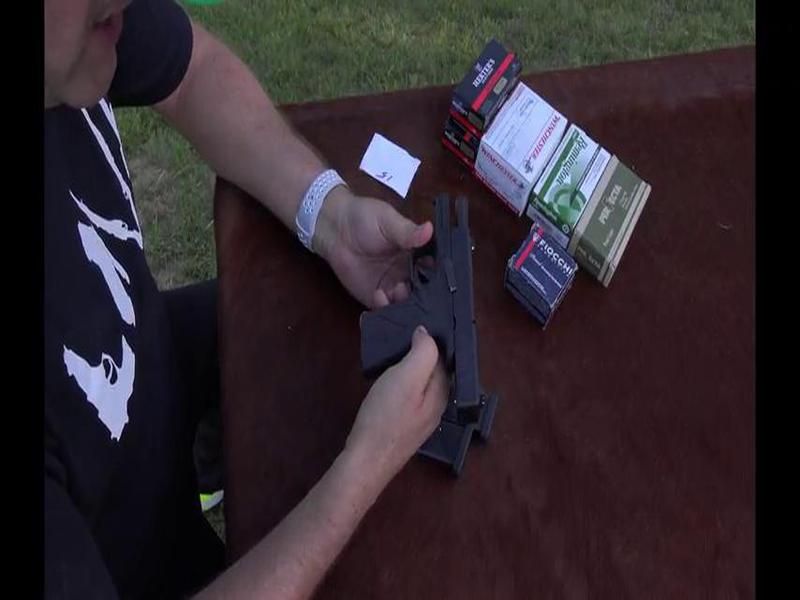Pistola: (361, 192, 481, 415)
